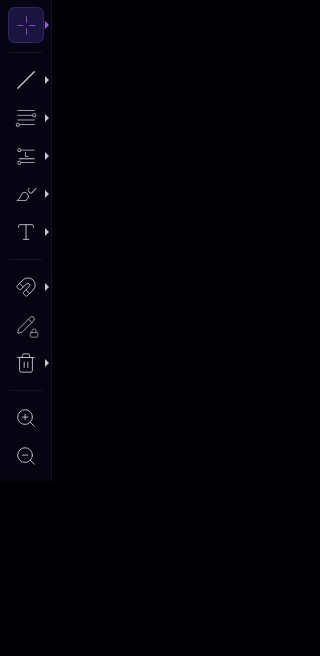
it: LeftToolbar — tool groups › [10.7.15] should show TradingView’s shortcuts in the flyout rows and the button tooltip
Click the button named "Trend Lines tools".
click(47, 80)  # box [42,63,52,97]
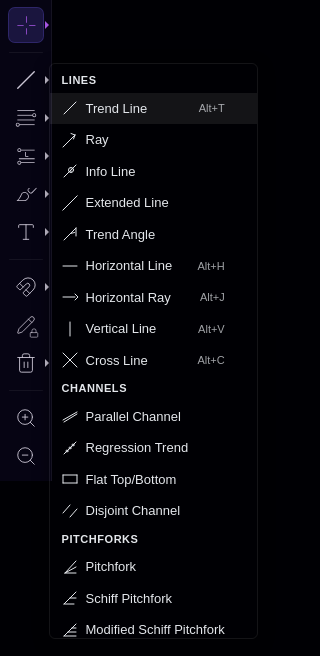
Now the text "Alt+H" is shown, box [198,258,225,274]
